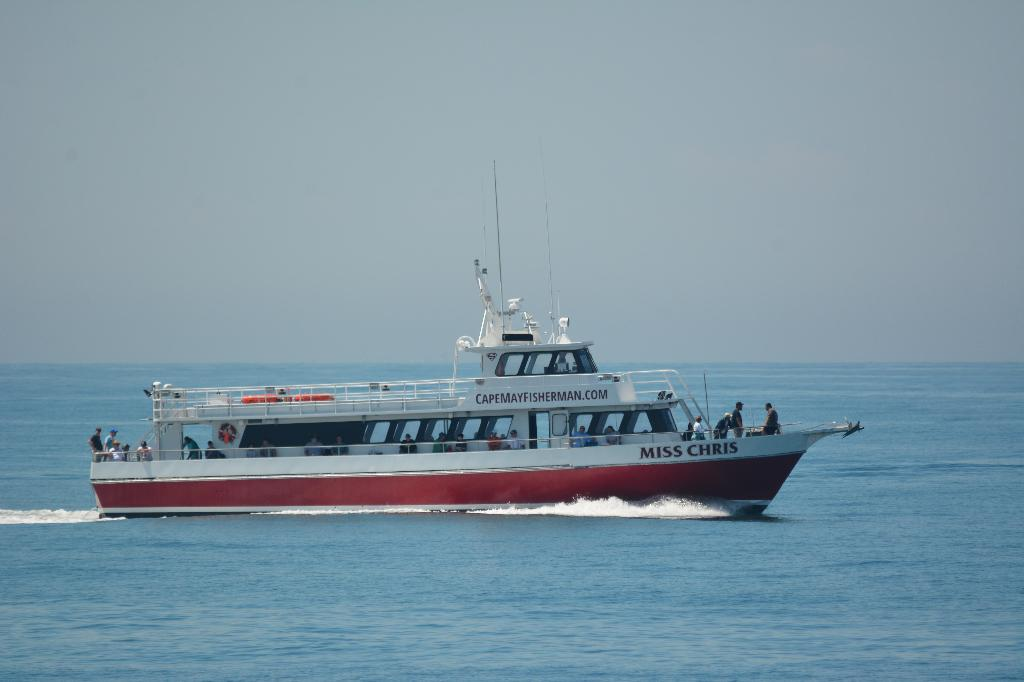PassengerShip: (82, 265, 872, 528)
